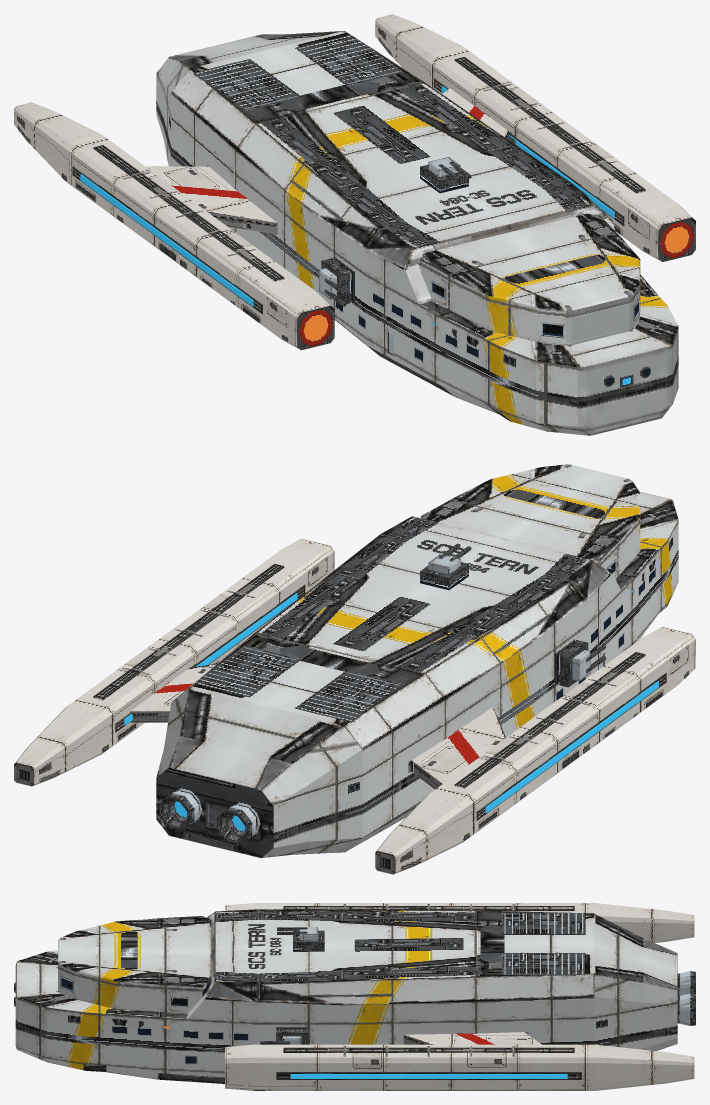
Rendered from tern_lod1.glb.
3 renders of one model, top to bottom at view 1: azimuth 30°, elevation 25°; view 2: azimuth 150°, elevation 25°; view 3: azimuth 270°, elevation 25°, orthographic. The views are drawn at different scales.
Visible parts, largest first — view 1: tern_lod1; view 2: tern_lod1; view 3: tern_lod1.
Boxes of the visible parts, x1,y1,x2,y2 form: tern_lod1: (14,14,695,435); tern_lod1: (14,464,695,874); tern_lod1: (14,903,695,1090).
Bounding box in the file's own units: 45 × 18.04 × 81.38.
1 material, 1 textured.
